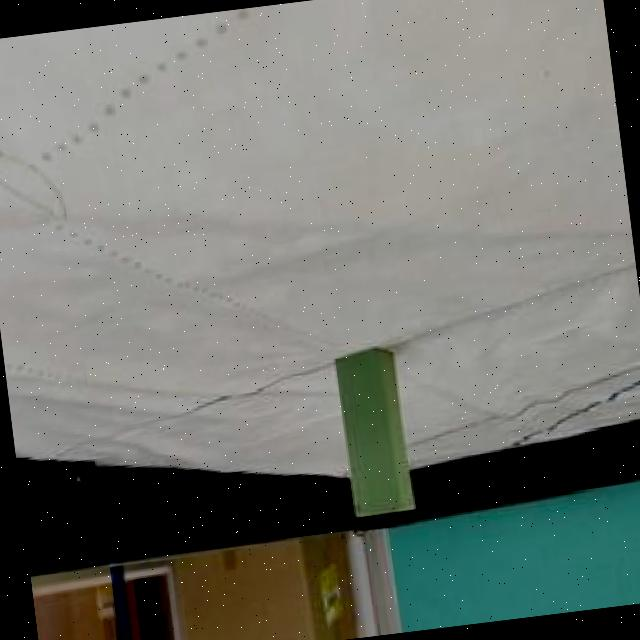greenbox: (335, 343, 415, 518)
